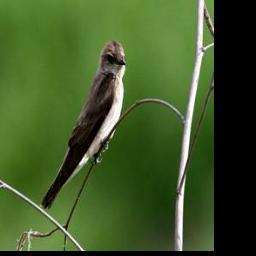Swallow: (38, 37, 127, 212)
